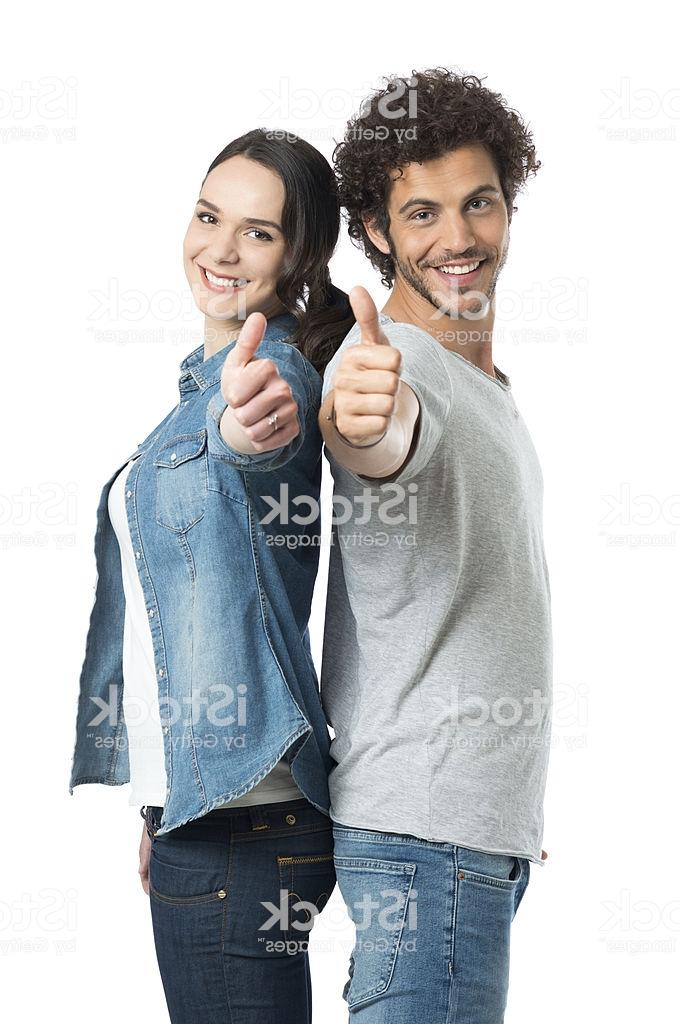thumbsup: (219, 310, 302, 453), (332, 284, 404, 448)
